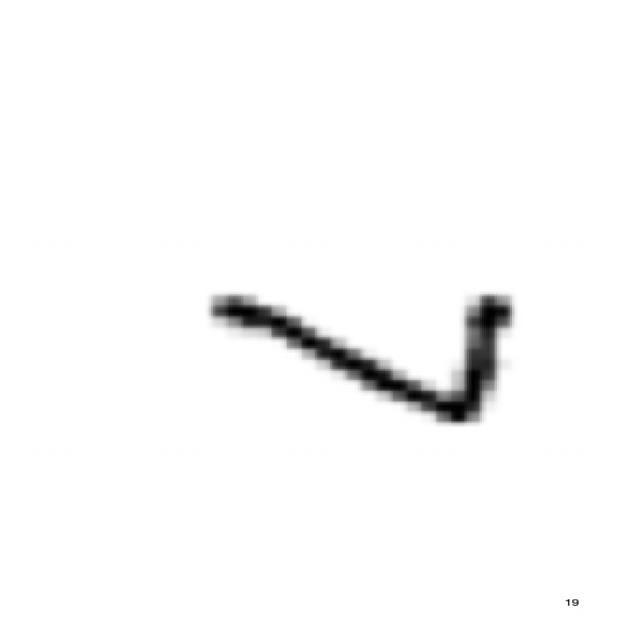7 -seven-: (199, 280, 521, 444)
